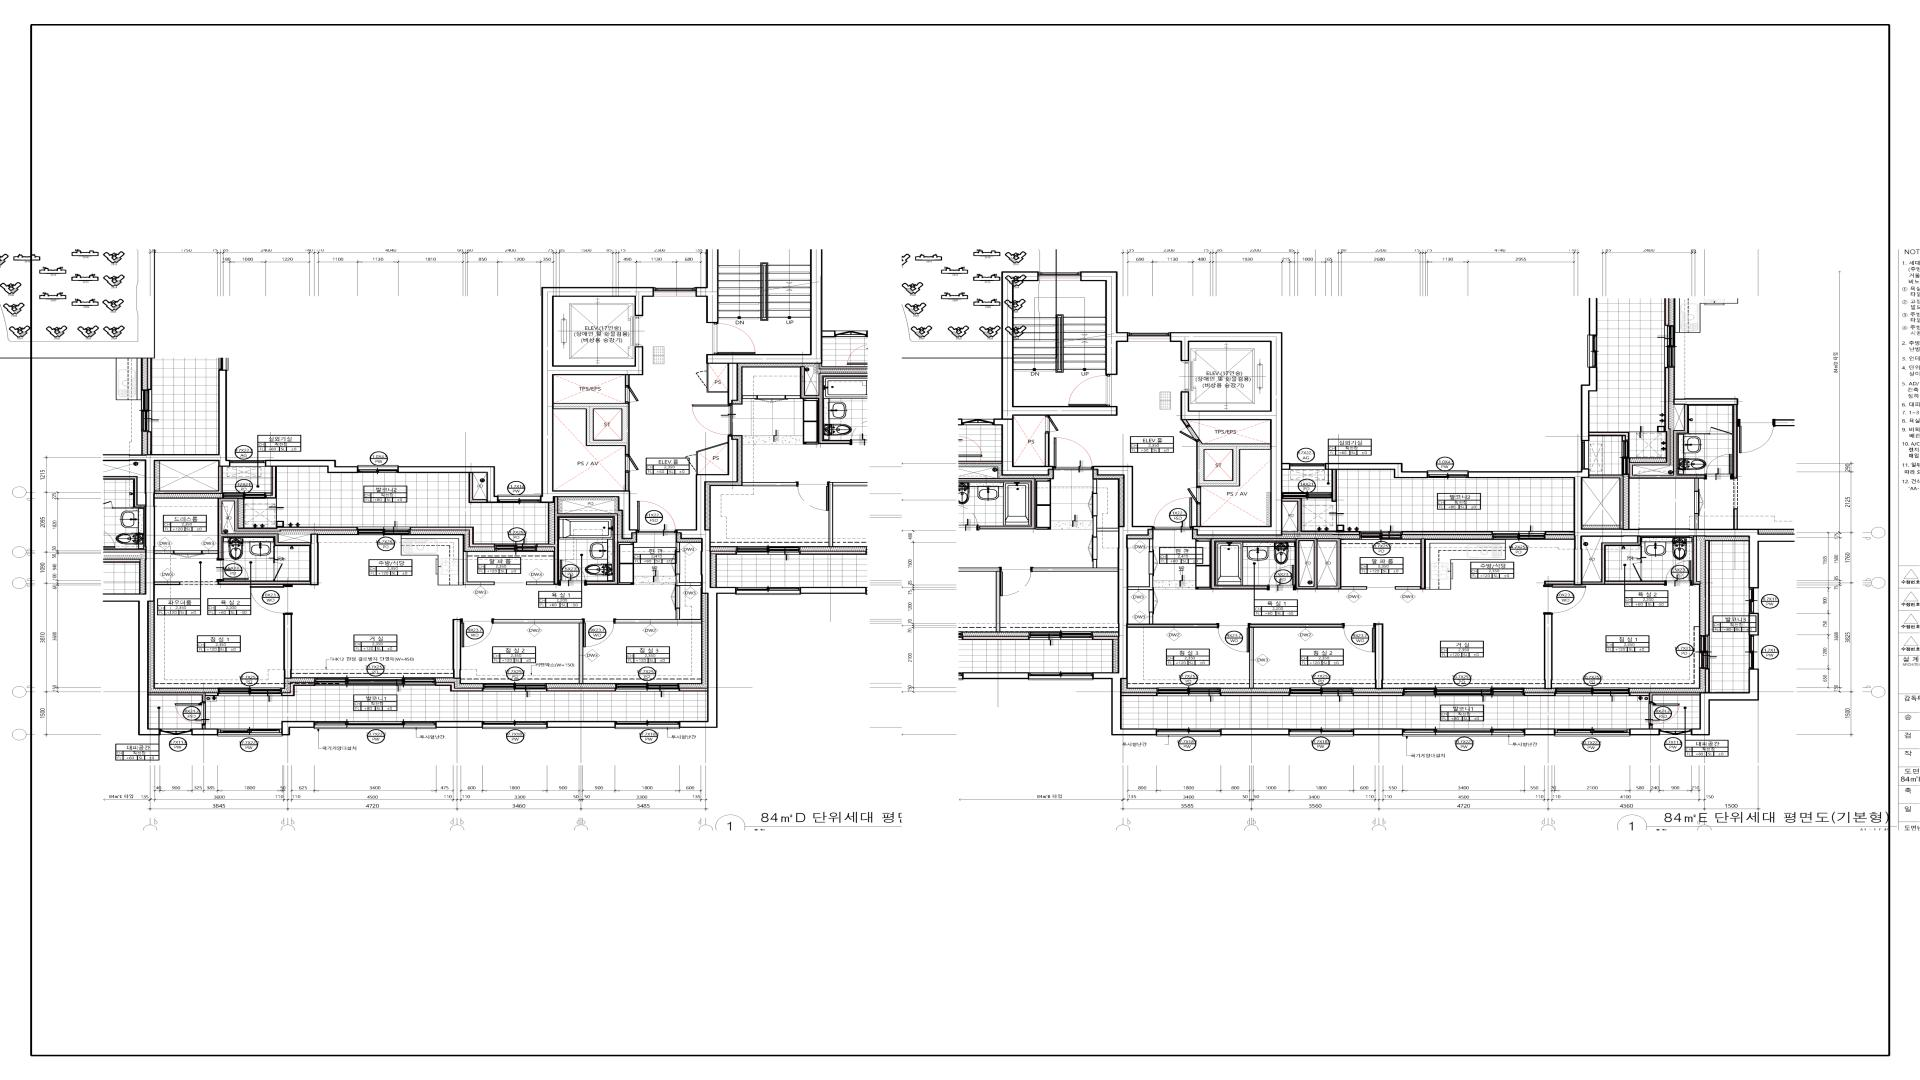door: (712, 323, 756, 354), (1067, 376, 1111, 406), (1543, 585, 1586, 615), (1153, 498, 1192, 531), (637, 501, 676, 533), (251, 585, 293, 614), (1343, 623, 1375, 653), (461, 619, 494, 648), (583, 619, 616, 648), (1217, 623, 1249, 652), (1649, 701, 1680, 726), (559, 559, 587, 586), (1665, 560, 1693, 586), (1267, 565, 1296, 590), (175, 702, 206, 725), (217, 559, 249, 581), (1176, 426, 1200, 443), (625, 454, 639, 473), (625, 385, 639, 403), (1187, 487, 1201, 503), (1045, 416, 1058, 433), (175, 550, 202, 558), (273, 562, 283, 581), (1633, 560, 1642, 580)
wall: (1467, 469, 1759, 589), (541, 287, 654, 539), (138, 455, 230, 736), (1170, 332, 1291, 536), (1001, 271, 1118, 476), (706, 220, 823, 405), (676, 435, 738, 728), (1093, 466, 1157, 735), (218, 498, 358, 559), (537, 497, 618, 585), (1211, 538, 1341, 590), (1250, 624, 1343, 688), (494, 619, 583, 684), (1081, 271, 1129, 375), (696, 220, 744, 323), (1691, 669, 1759, 736), (1583, 537, 1665, 585), (398, 466, 499, 503), (1196, 441, 1270, 486), (1283, 498, 1360, 535), (155, 467, 223, 494), (410, 527, 495, 547), (1325, 463, 1428, 478), (1128, 612, 1217, 628), (615, 608, 701, 623), (265, 460, 359, 473), (463, 551, 495, 585), (618, 542, 634, 585), (1544, 615, 1552, 689), (283, 615, 292, 679), (149, 692, 205, 702), (469, 473, 487, 503), (1375, 624, 1383, 689), (281, 721, 315, 736), (435, 682, 484, 692), (546, 721, 616, 728), (281, 682, 315, 696), (1705, 540, 1710, 635), (453, 619, 461, 678), (310, 534, 319, 585), (1220, 729, 1290, 735), (1649, 693, 1700, 701), (1128, 574, 1153, 590), (218, 581, 310, 585), (1401, 531, 1493, 535), (1353, 729, 1404, 736), (266, 467, 277, 499), (435, 721, 483, 728), (1693, 537, 1700, 585), (1420, 539, 1426, 590), (676, 574, 701, 586), (546, 688, 616, 692), (1220, 692, 1290, 696), (1524, 728, 1556, 736), (1629, 729, 1661, 736), (1749, 614, 1759, 635), (1353, 692, 1404, 696), (1045, 433, 1050, 466), (191, 729, 218, 735), (1332, 470, 1337, 502), (1122, 692, 1157, 696), (1544, 581, 1574, 585), (1705, 669, 1710, 693), (1545, 531, 1574, 535), (1196, 503, 1201, 526), (679, 688, 707, 692), (526, 581, 554, 585), (1395, 586, 1421, 590), (155, 581, 180, 585), (1523, 693, 1556, 696), (1341, 586, 1367, 589), (1182, 420, 1191, 428), (155, 551, 175, 554), (1629, 693, 1649, 696), (1149, 539, 1153, 552), (1196, 539, 1212, 542), (202, 551, 217, 554), (676, 542, 680, 552), (206, 693, 219, 696), (1196, 587, 1211, 589), (202, 725, 206, 729), (1649, 725, 1653, 729), (266, 493, 272, 495)
window: (1404, 729, 1524, 737), (315, 721, 435, 729), (316, 678, 435, 686), (1404, 688, 1523, 696), (1555, 688, 1629, 696), (616, 683, 679, 692), (484, 683, 546, 692), (1556, 729, 1629, 736), (483, 721, 546, 729), (616, 721, 679, 729), (1157, 688, 1220, 696), (1290, 688, 1353, 696), (219, 688, 281, 696), (1494, 531, 1545, 540), (218, 729, 281, 736), (1157, 729, 1220, 736), (1290, 729, 1353, 736), (358, 527, 410, 535), (1129, 332, 1170, 342), (654, 287, 696, 296), (1361, 531, 1402, 540), (744, 220, 785, 229), (1699, 636, 1710, 668), (1283, 492, 1332, 499), (495, 544, 537, 552), (499, 495, 541, 503), (1749, 636, 1759, 669), (1039, 273, 1080, 281), (359, 465, 397, 473), (223, 492, 266, 499), (1428, 471, 1467, 478), (230, 460, 265, 467), (1749, 589, 1758, 613), (1291, 463, 1325, 469), (160, 729, 191, 735), (1661, 729, 1691, 735)
